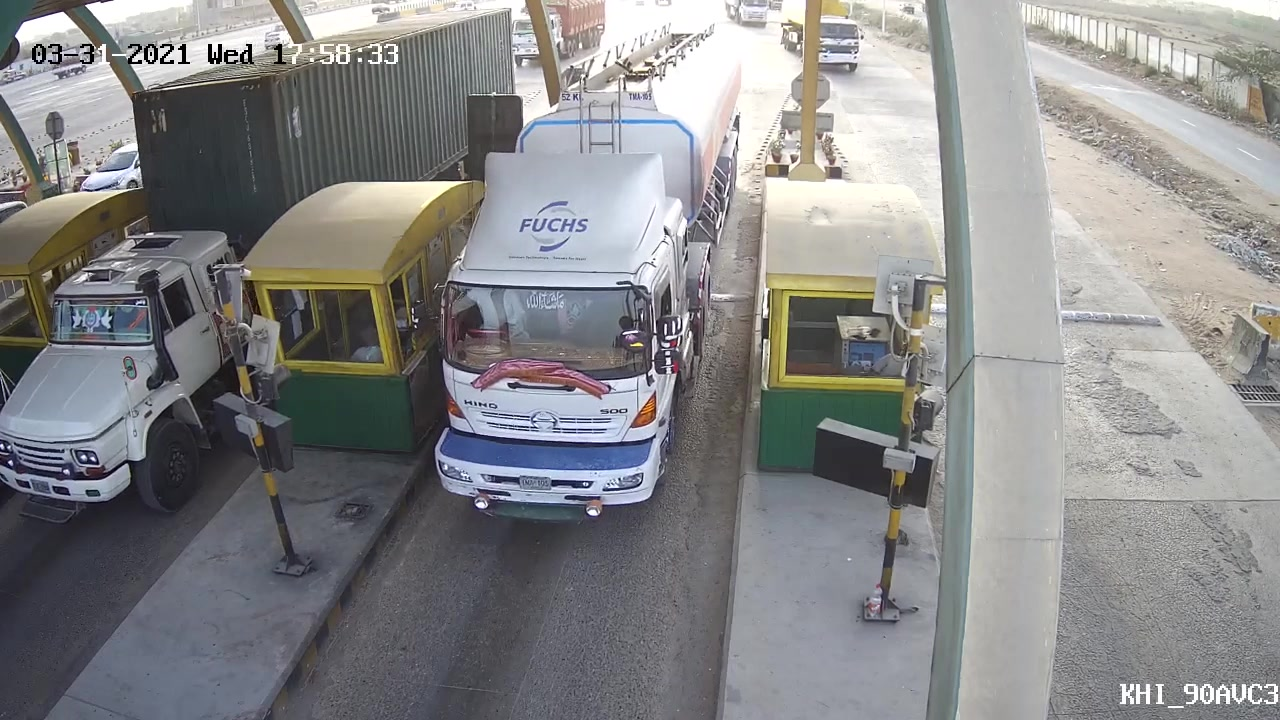F6: (425, 24, 752, 531)
